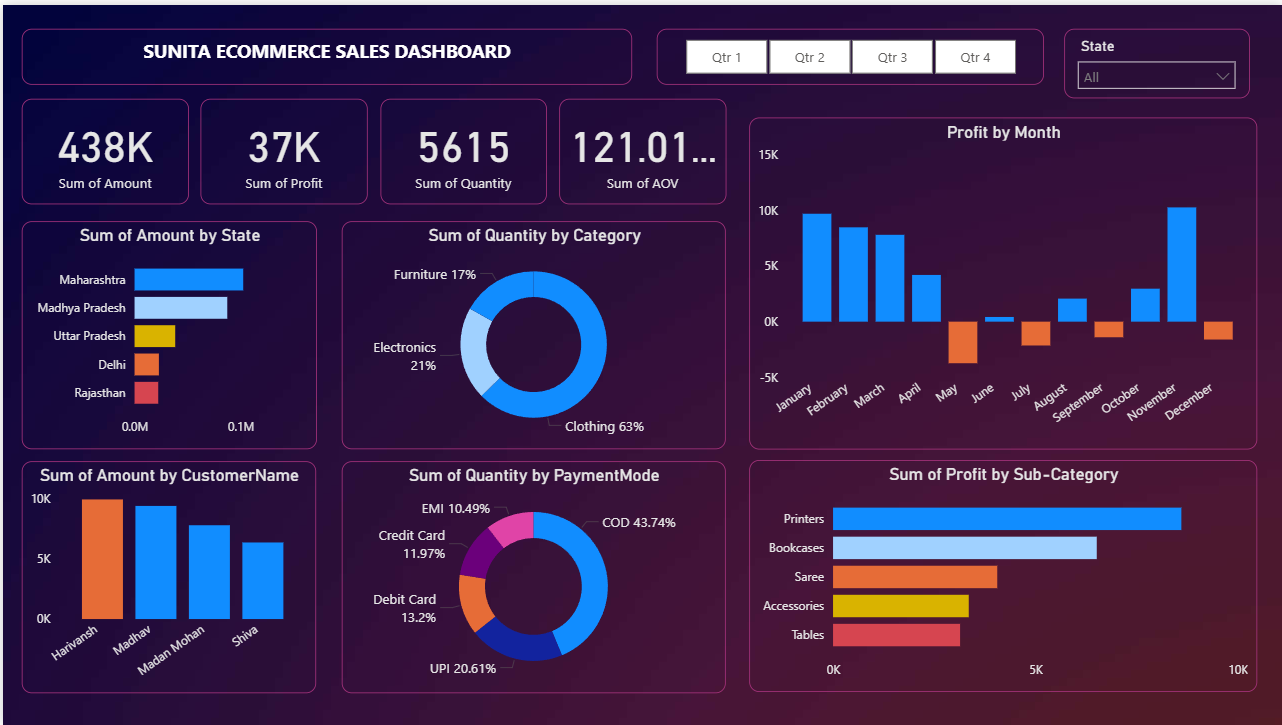

The dashboard page shown, as its layout file describes it:
{"tool":"powerbi","page":{"name":"Page 1","canvas":[1280,720],"ordinal":0},"visuals":[{"type":"columnChart","title":"Profit by Month","fields":{"Y":["Sum(Details.Profit)"],"Category":["Orders.Order Date.Variation.Date Hierarchy.Month"]},"box":[746.5,112.5,507.7,332.1],"z":0},{"type":"barChart","fields":{"Category":["Details.Sub-Category"],"Y":["Sum(Details.Profit)"]},"box":[746.5,455.6,507.7,231.9],"z":1000},{"type":"donutChart","fields":{"Category":["Details.Category"],"Y":["Sum(Details.Quantity)"]},"box":[338.9,216.8,384.2,227.8],"z":2000},{"type":"textbox","box":[19.2,23.3,610.6,56.3],"z":3000},{"type":"donutChart","fields":{"Y":["Sum(Details.Quantity)"],"Category":["Details.PaymentMode"]},"box":[339,456,383.6,231.6],"z":4000},{"type":"card","fields":{"Values":["Sum(Details.Amount)"]},"box":[19.2,93.3,167.4,105.7],"z":5000},{"type":"card","fields":{"Values":["Sum(Details.Profit)"]},"box":[197.6,93.3,167.4,105.7],"z":6000},{"type":"card","fields":{"Values":["Sum(Details.Quantity)"]},"box":[377.4,93.3,166,105.7],"z":7000},{"type":"card","fields":{"Values":["Sum(Details.AOV)"]},"box":[555.7,93.3,167.4,105.7],"z":8000},{"type":"barChart","fields":{"Category":["Orders.State"],"Y":["Sum(Details.Amount)"]},"box":[19.2,216.8,295,227.8],"z":9000},{"type":"columnChart","fields":{"Category":["Orders.CustomerName"],"Y":["Sum(Details.Amount)"]},"box":[19,456,294,232],"z":10000},{"type":"slicer","fields":{"Values":["Orders.Order Date.Variation.Date Hierarchy.Quarter"]},"box":[653.2,23.3,387,56.3],"z":11000},{"type":"slicer","fields":{"Values":["Orders.State"]},"box":[1060.7,23.3,185.2,70],"z":12000}]}

Visuals, with their boxes in screenshot pixels (x1, y1, x2, y2), scaled from the page's 1280x720 canvas onto the 1282x725 screenshot:
"Profit by Month" columnChart: 748/113/1256/448
barChart - Details.Sub-Category x Sum(Details.Profit): 748/459/1256/692
donutChart - Details.Category x Sum(Details.Quantity): 339/218/724/448
textbox: 19/23/631/80
donutChart - Sum(Details.Quantity) x Details.PaymentMode: 340/459/724/692
card - Sum(Details.Amount): 19/94/187/200
card - Sum(Details.Profit): 198/94/366/200
card - Sum(Details.Quantity): 378/94/544/200
card - Sum(Details.AOV): 557/94/724/200
barChart - Orders.State x Sum(Details.Amount): 19/218/315/448
columnChart - Orders.CustomerName x Sum(Details.Amount): 19/459/313/693
slicer - Orders.Order Date.Variation.Date Hierarchy.Quarter: 654/23/1042/80
slicer - Orders.State: 1062/23/1248/94
